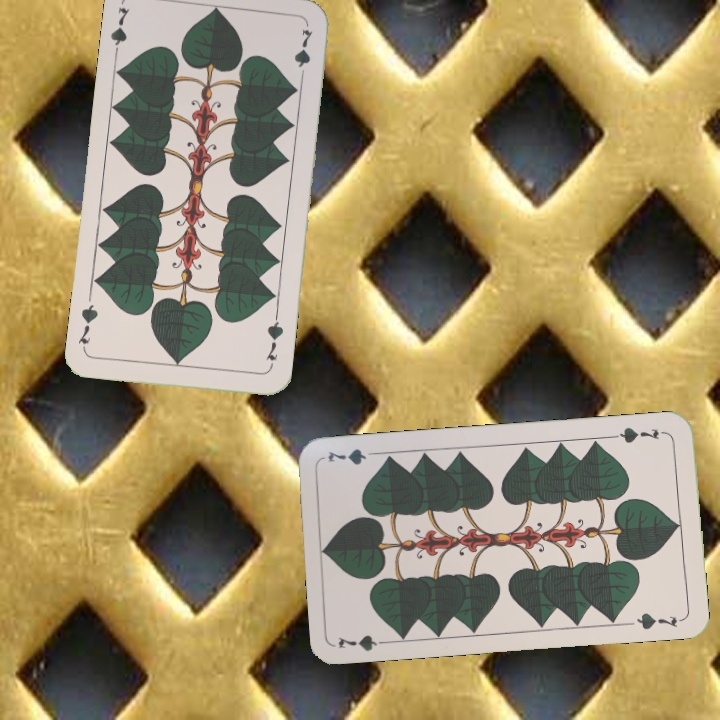G7: (107, 3, 132, 63), (334, 631, 394, 654), (610, 423, 669, 446), (262, 313, 286, 363)
